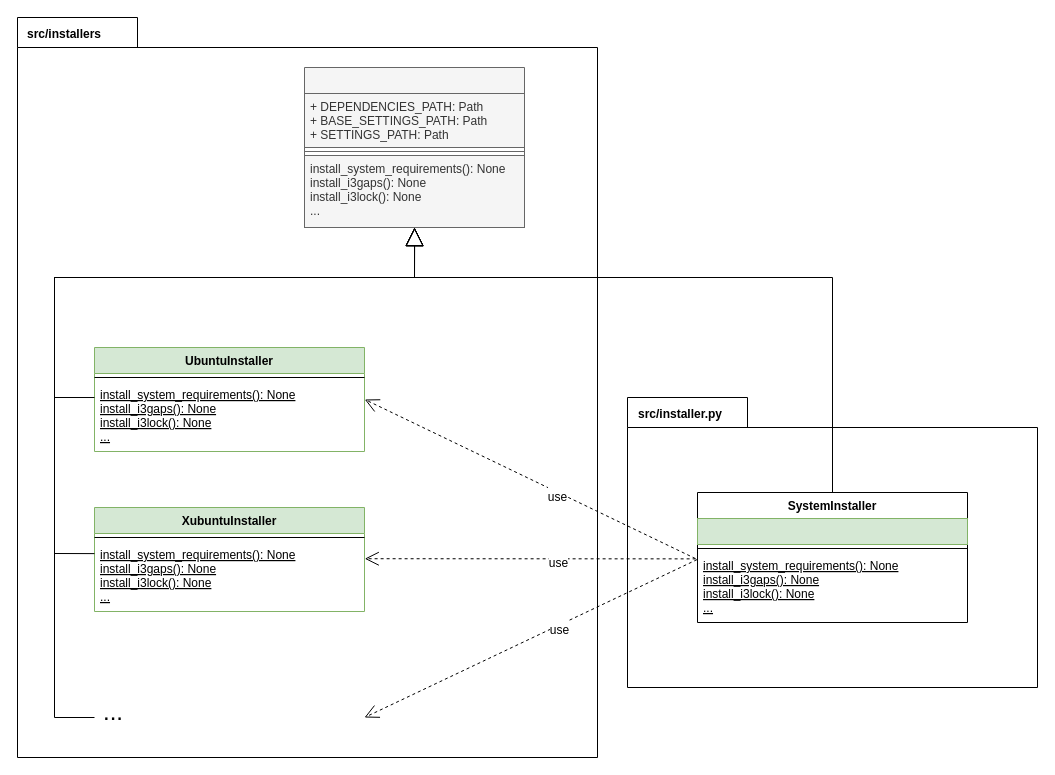
Image size: 1055x775. Some labels were removed from this diagram. Each missing label, with the box of its shape:
+ OS_INSTALLERS: Map[OS, BaseInstaller]: (696, 518, 968, 544)
BaseInstaller (abstract): (304, 66, 524, 228)
